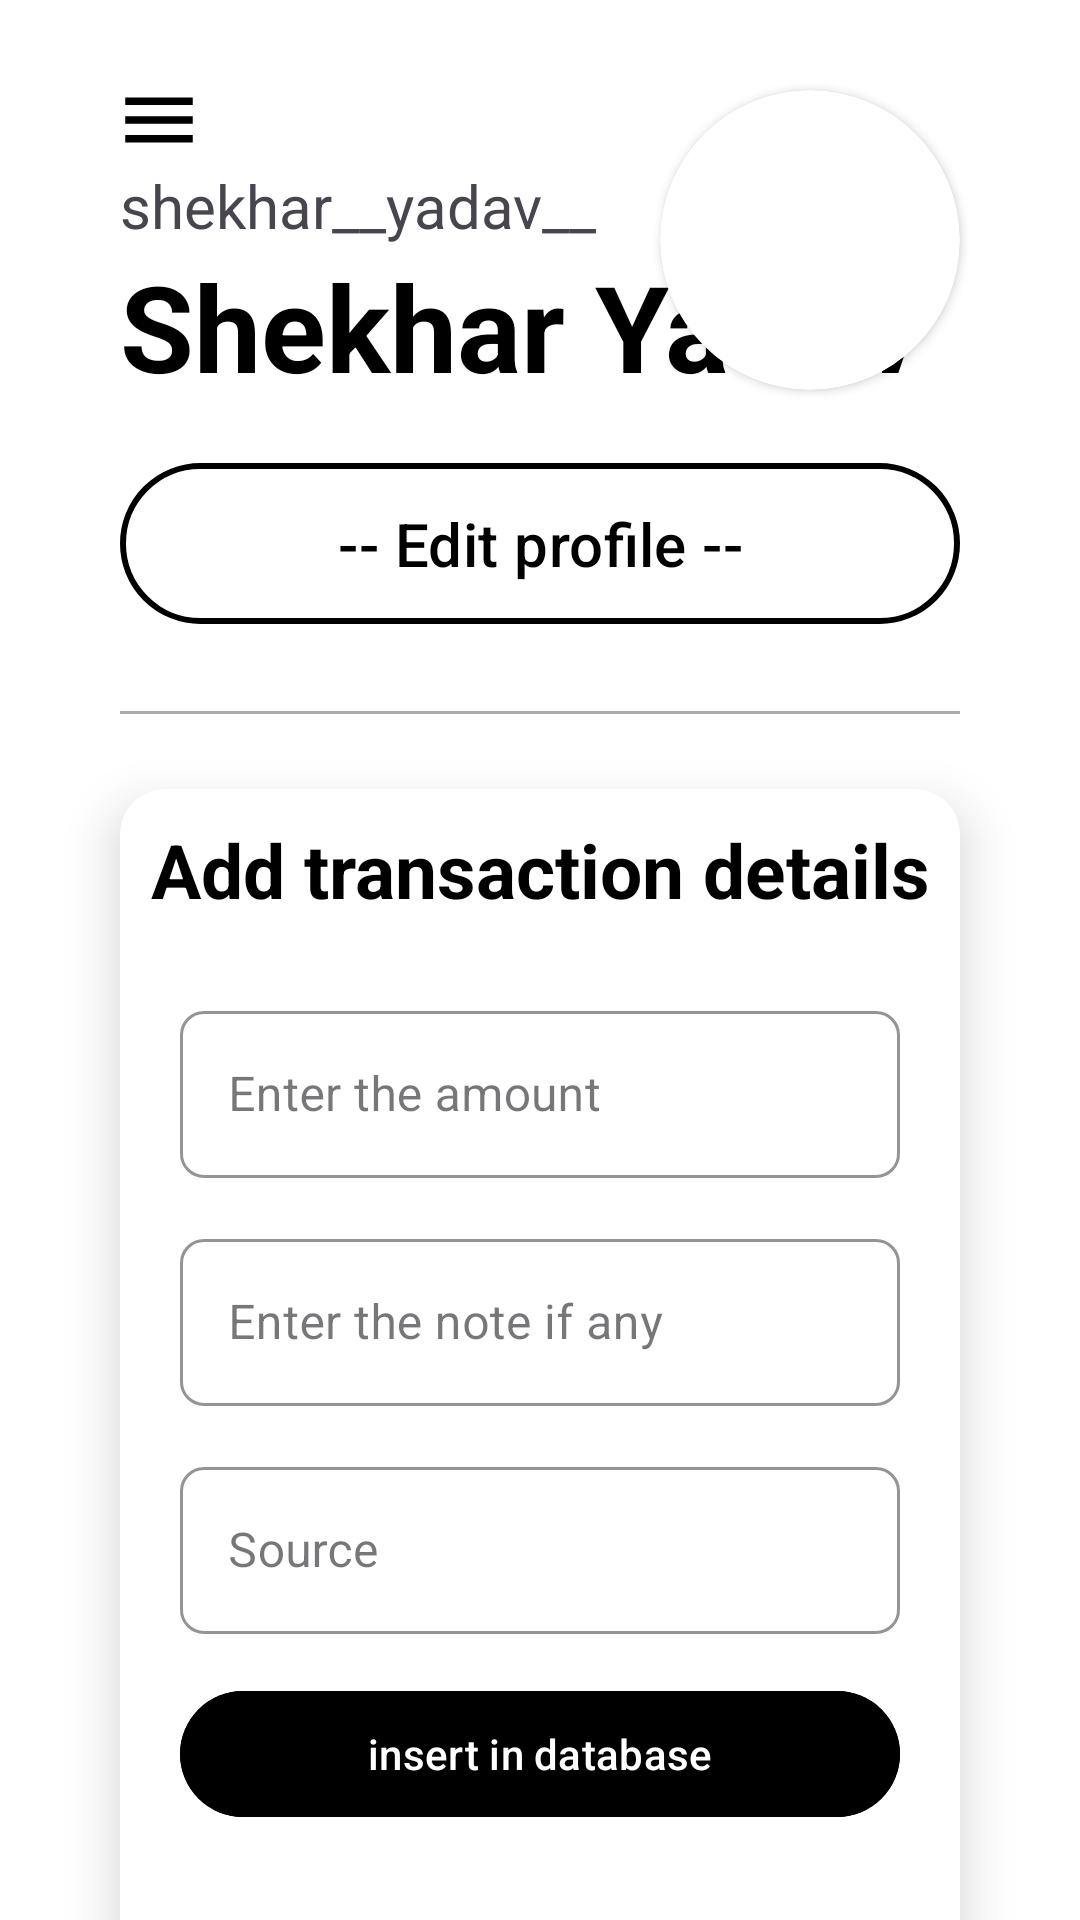

Screen size 1080px×1920px. Icon name, then its center in pixels as [x,y]:
menu: [159,120]
